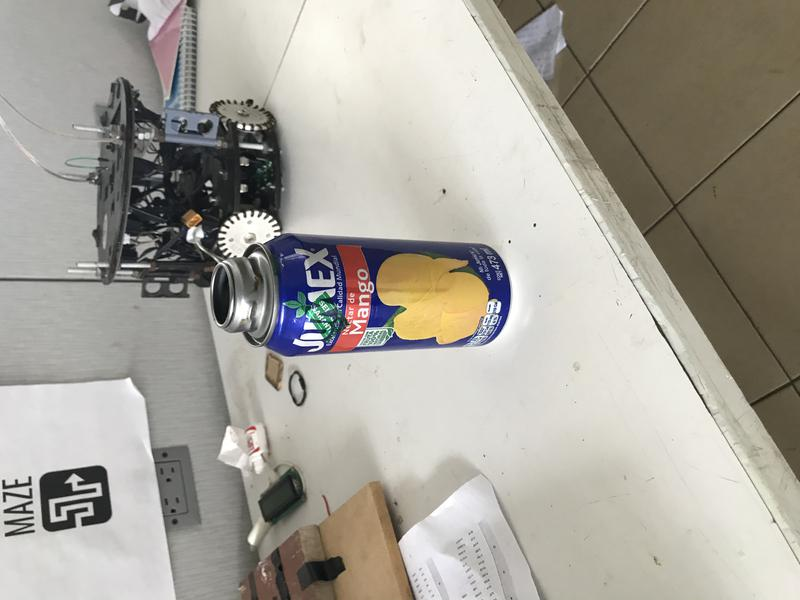jumex_botella: (209, 233, 512, 357)
